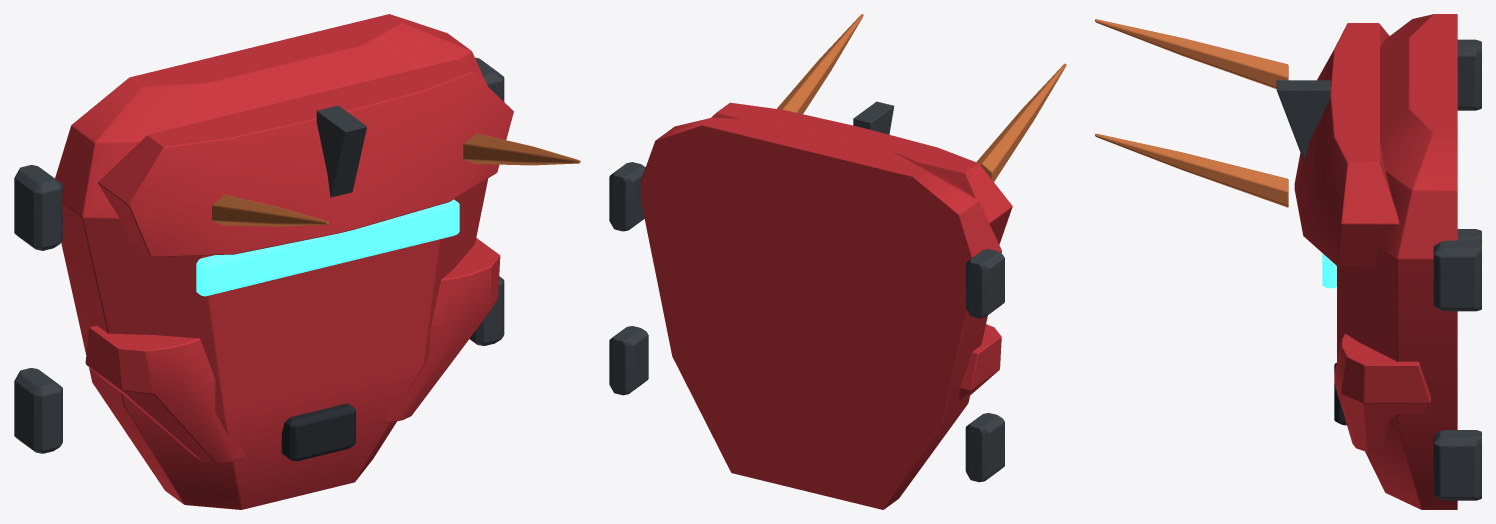
Rendered from HeadFront_Set06_Voltaic.fbx.
3 views of the same model, side by side, from view 1: azimuth 30°, elevation 25°; view 2: azimuth 150°, elevation 25°; view 3: azimuth 270°, elevation 25° (orthographic). The views are drawn at different scales.
Visible parts, largest first — view 1: HeadFront_Set06_Voltaic; view 2: HeadFront_Set06_Voltaic; view 3: HeadFront_Set06_Voltaic.
Part boxes in pixels (bbox=[...]): HeadFront_Set06_Voltaic: bbox=[14, 14, 580, 509]; HeadFront_Set06_Voltaic: bbox=[609, 14, 1066, 509]; HeadFront_Set06_Voltaic: bbox=[1095, 14, 1481, 509].
Size of the model in its own units: 0.63 by 0.54 by 0.48.
